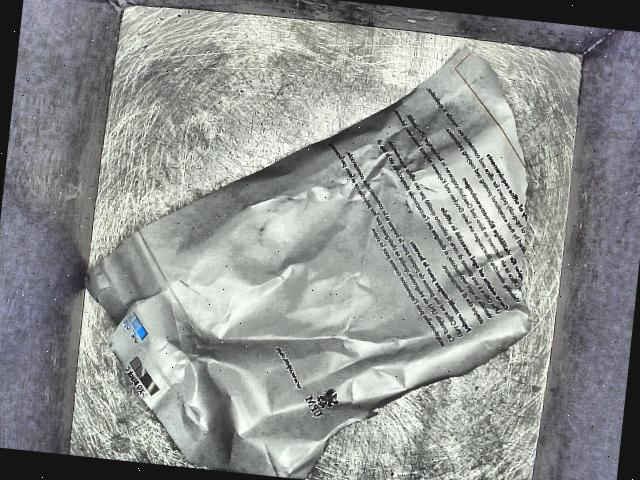Paper: (64, 3, 558, 480)
